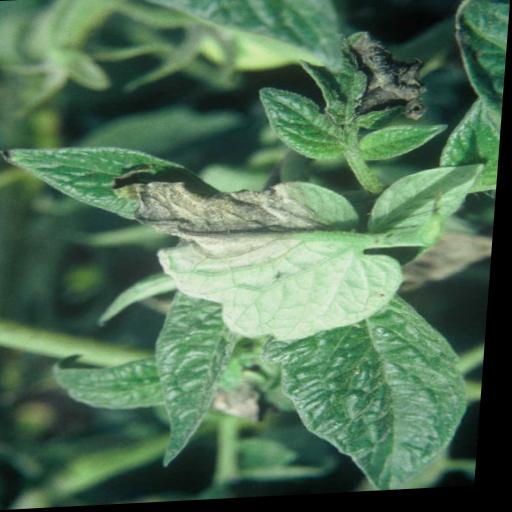Late Blight: (0, 130, 449, 358)
